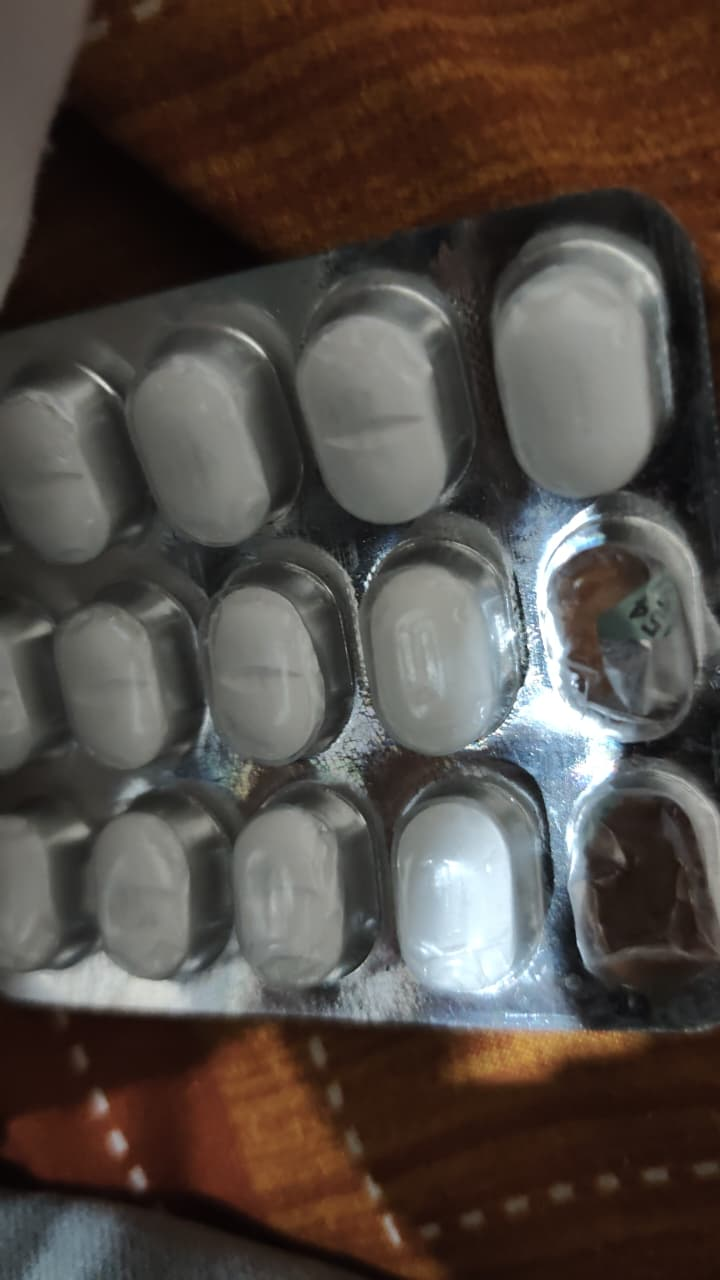MedicineStrip: (0, 189, 698, 1030)
